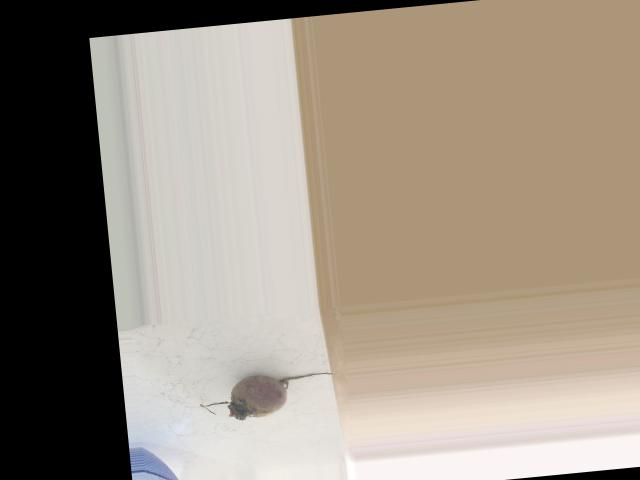beet: (198, 367, 339, 423)
